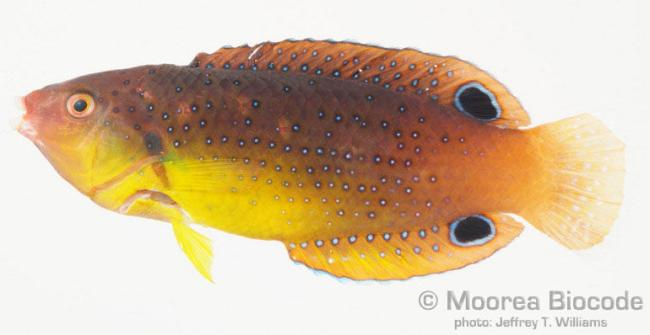fish: (17, 38, 624, 287)
